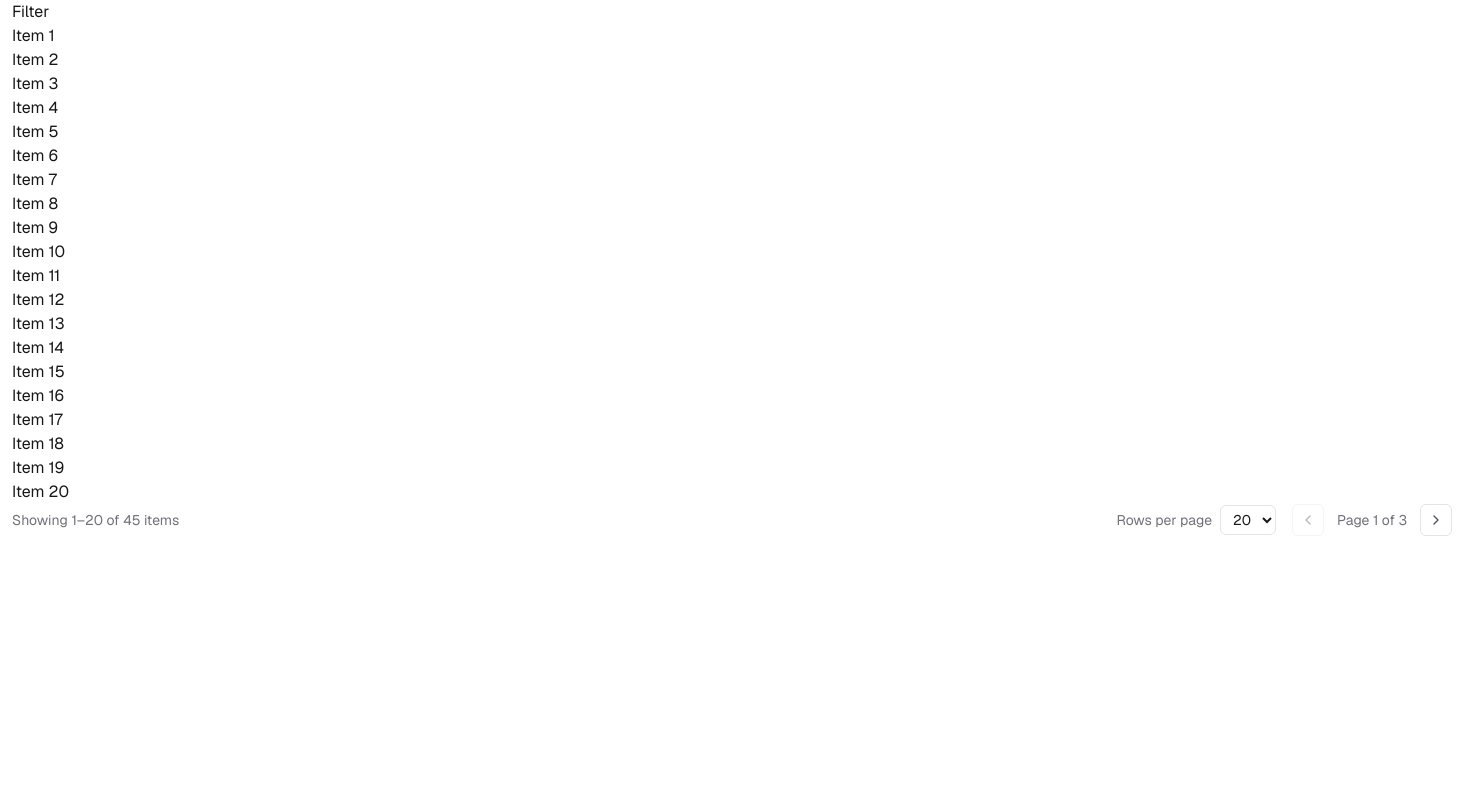
Test: PaginatedList › changes and remembers the page size, back on page 1
The image size is (1464, 810).
Click the button named "Next page": point(1436, 520) top-left (1420, 504), bottom-right (1452, 536)
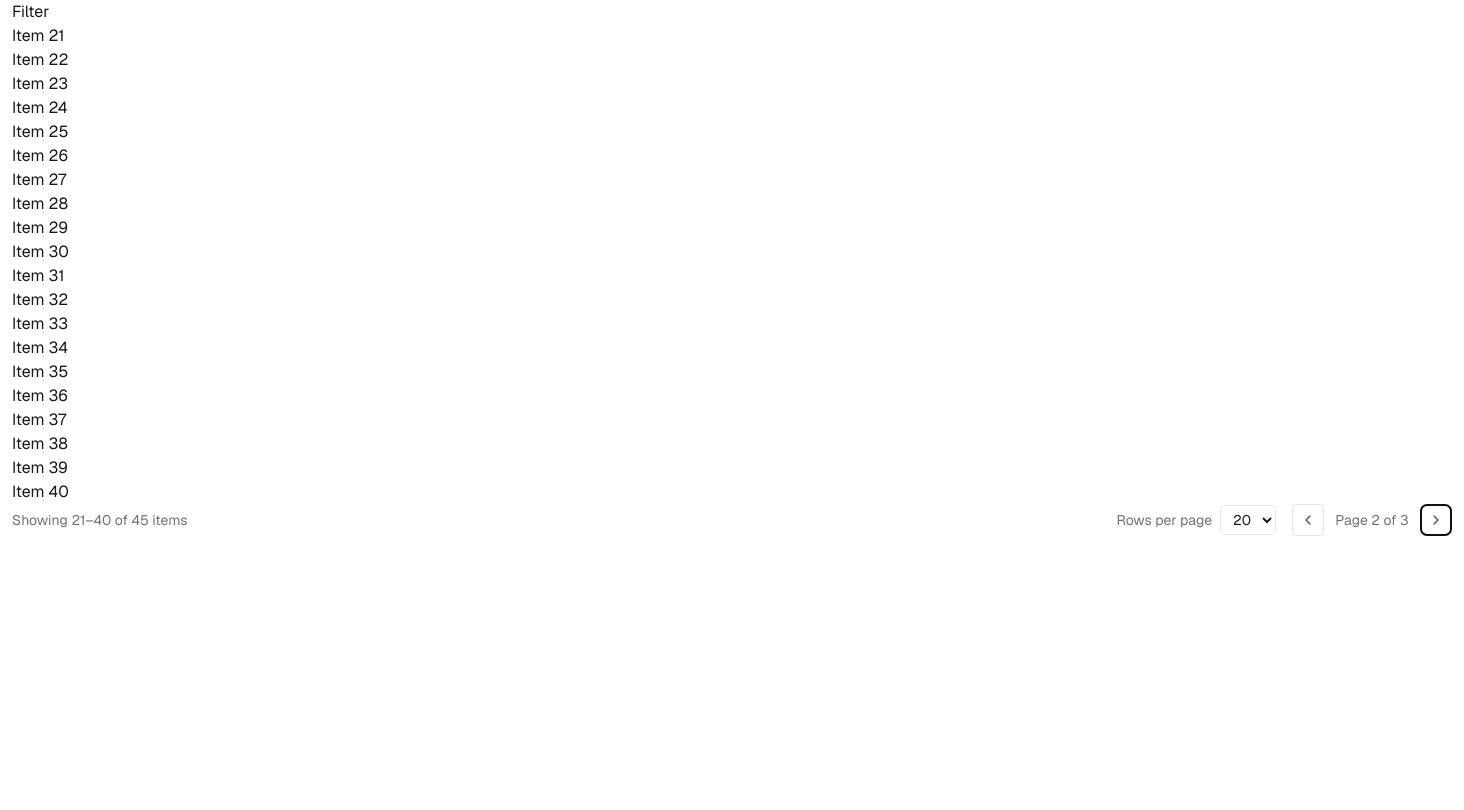
Select "50" in the dropdown labelled "Rows per page": point(1248, 520) top-left (1220, 505), bottom-right (1276, 535)
(page scrolled)
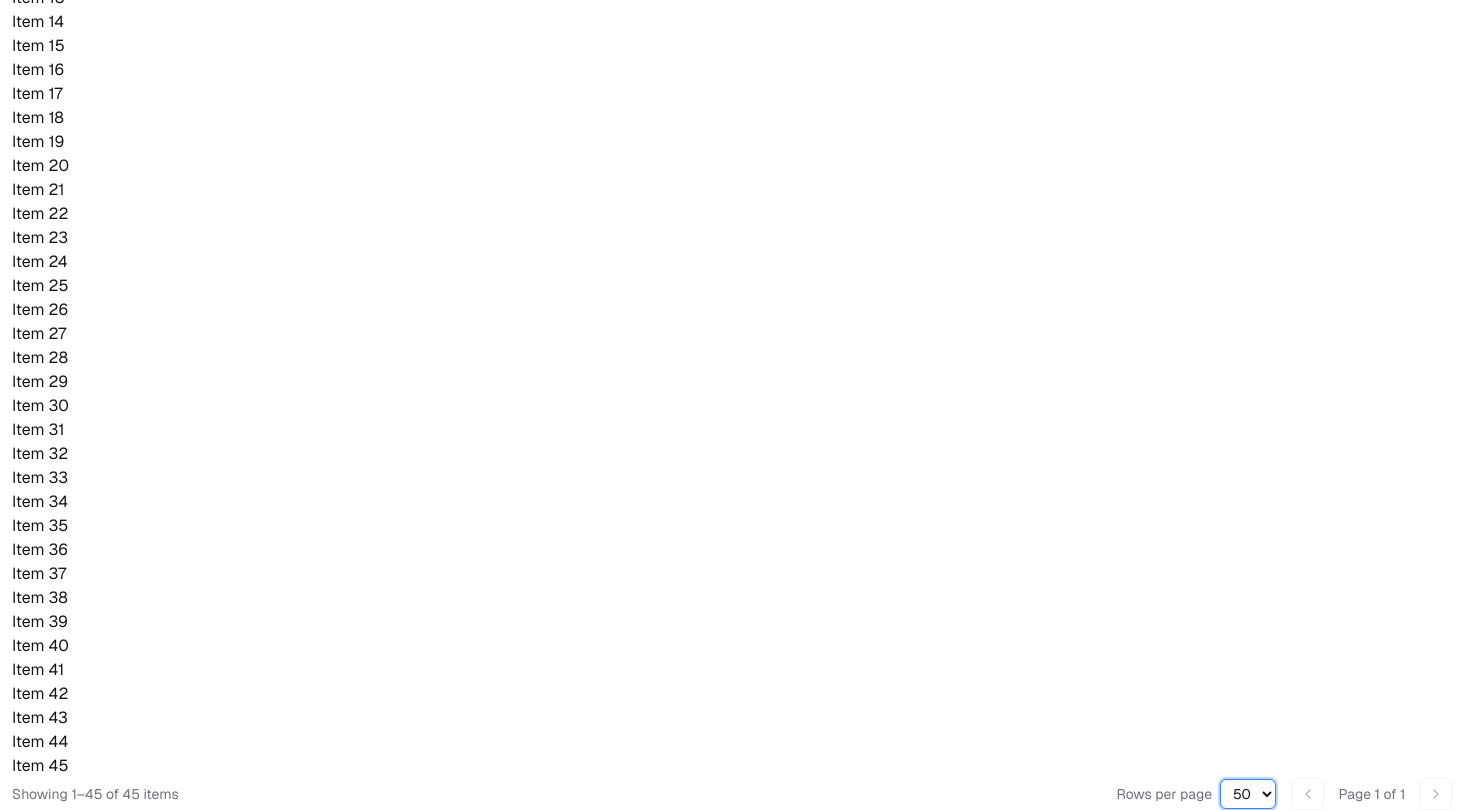
Result: the text "Page 1 of 1" is shown at top-left (1339, 785), bottom-right (1406, 803)
